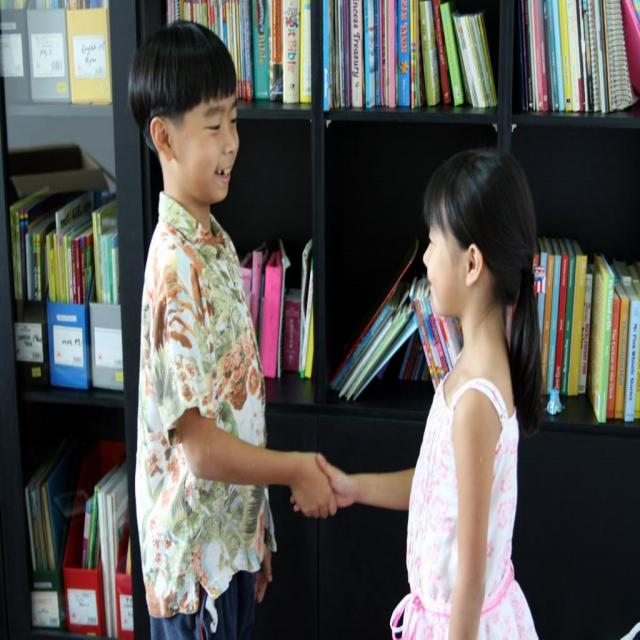nomask: (182, 60, 240, 200), (422, 189, 467, 319)
